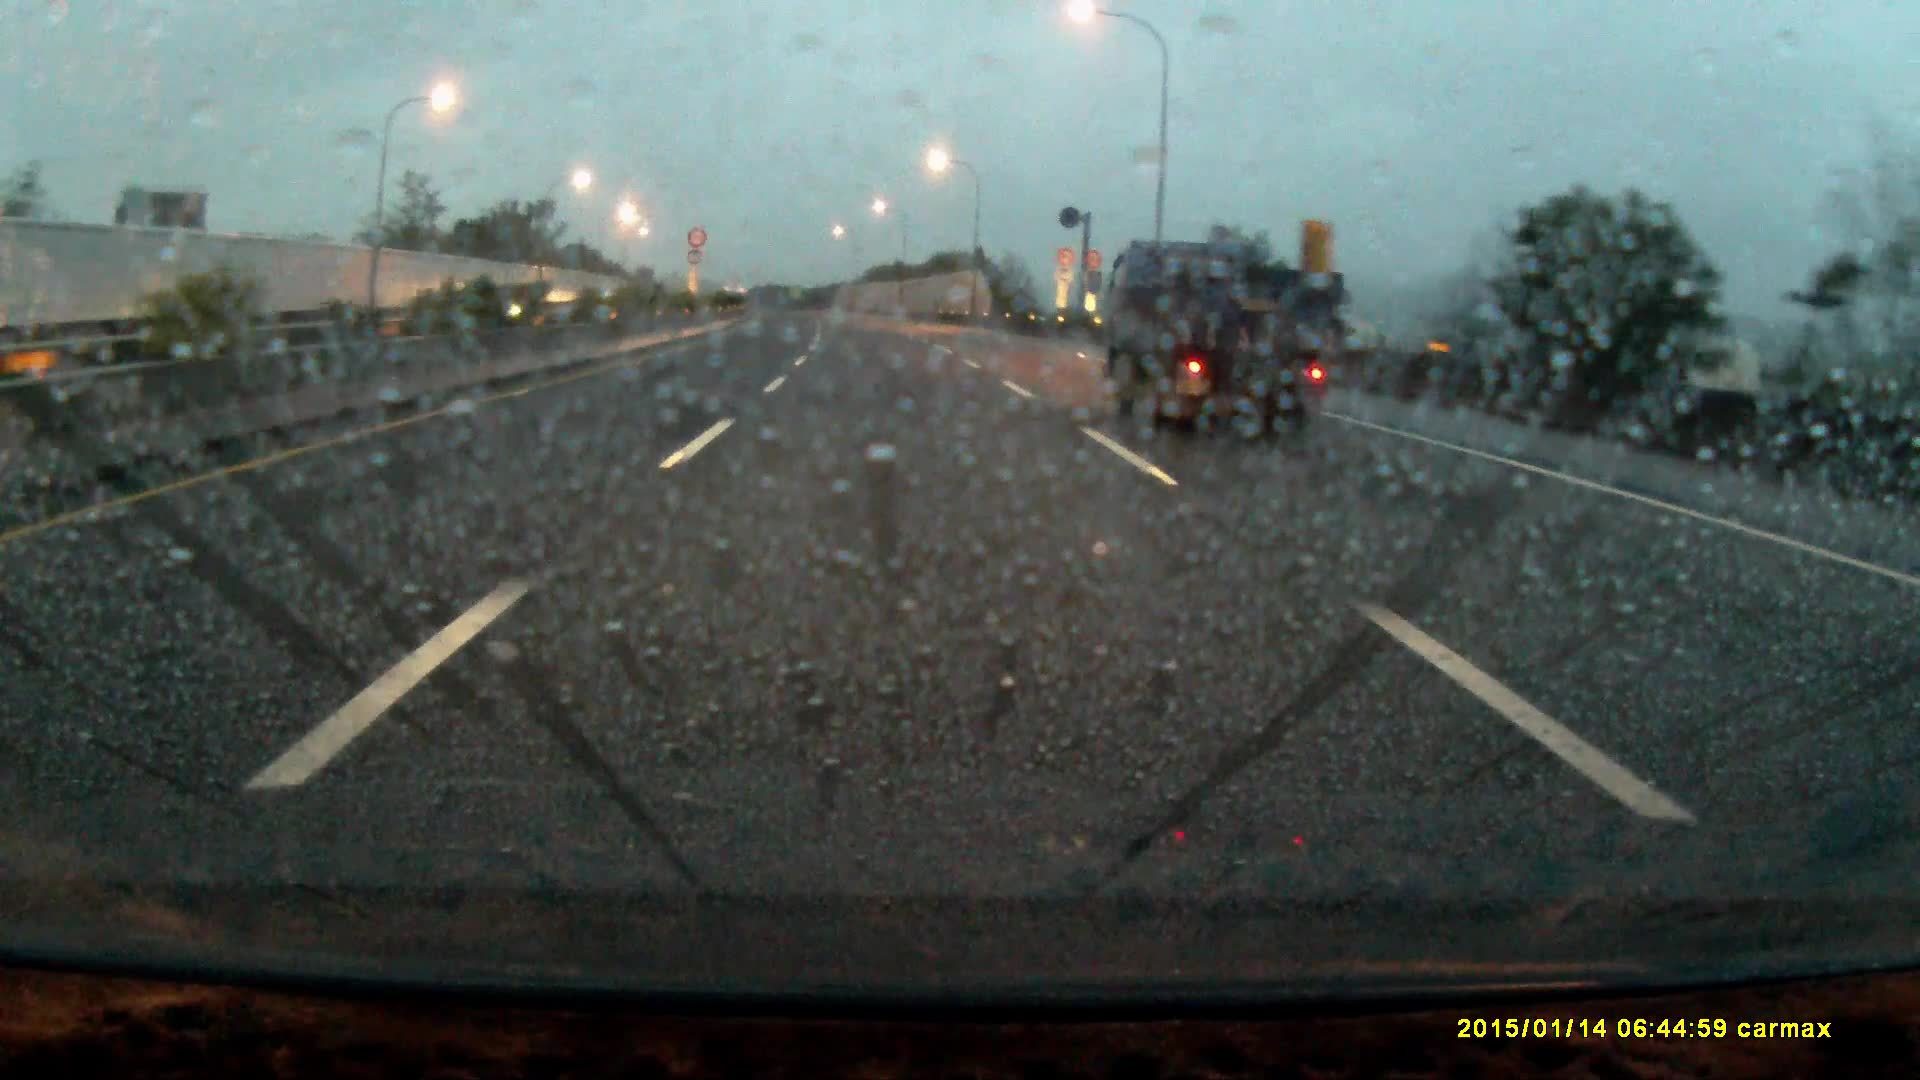vehicle: (1104, 237, 1346, 426)
